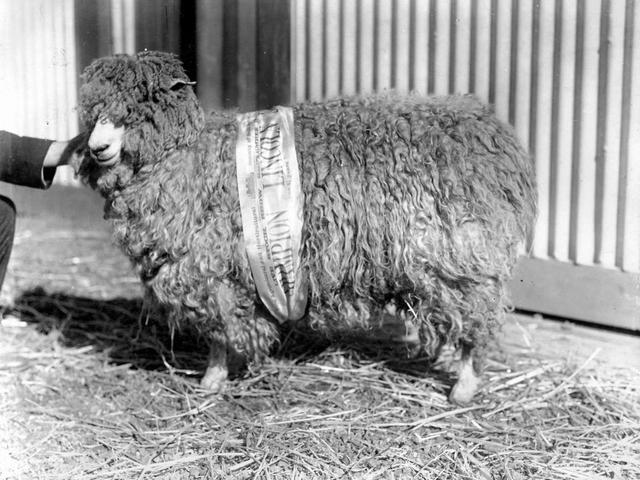sheep: (60, 38, 562, 421)
